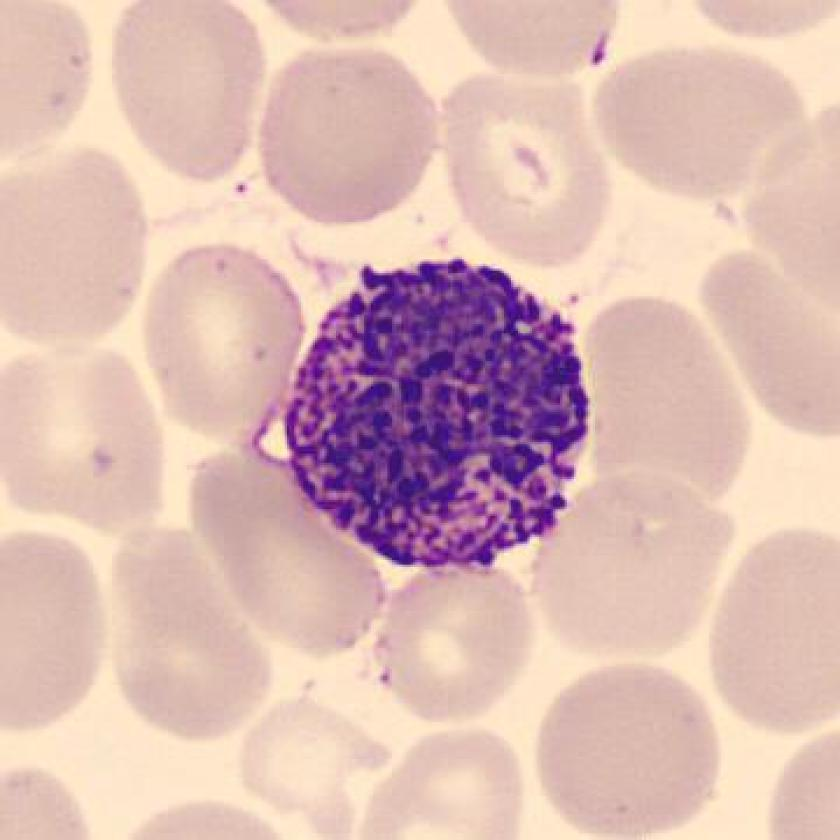basophil: (279, 249, 598, 577)
